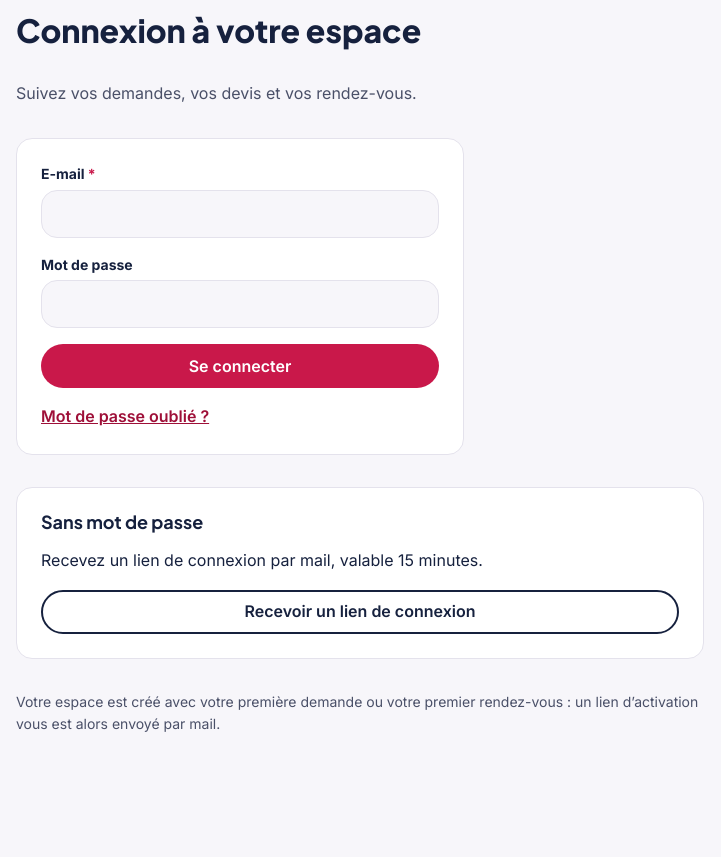
Scenario: Connexion › envoie un lien de connexion par mail, avec la même réponse pour toute adresse
Click the button "Recevoir un lien de connexion". click: (360, 612)
box: [41,590,679,634]
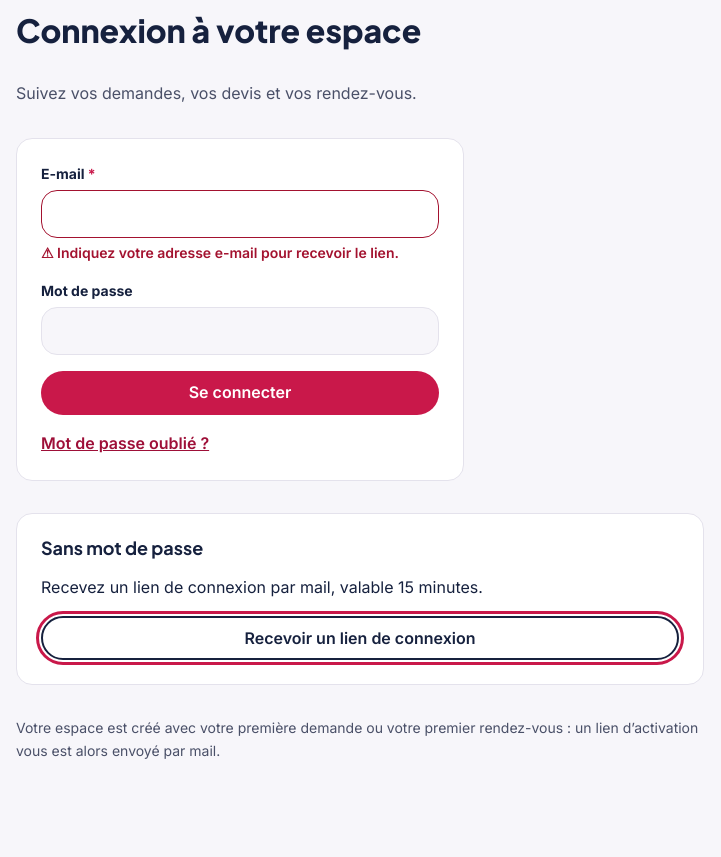
Check: the text "Indiquez votre adresse e-mail pour recevoir le lien." is shown, box [41,242,439,264]
Type " marie@exemple.fr " into the field labelled "E-mail *". click: (240, 214)
box: [41,190,439,238]
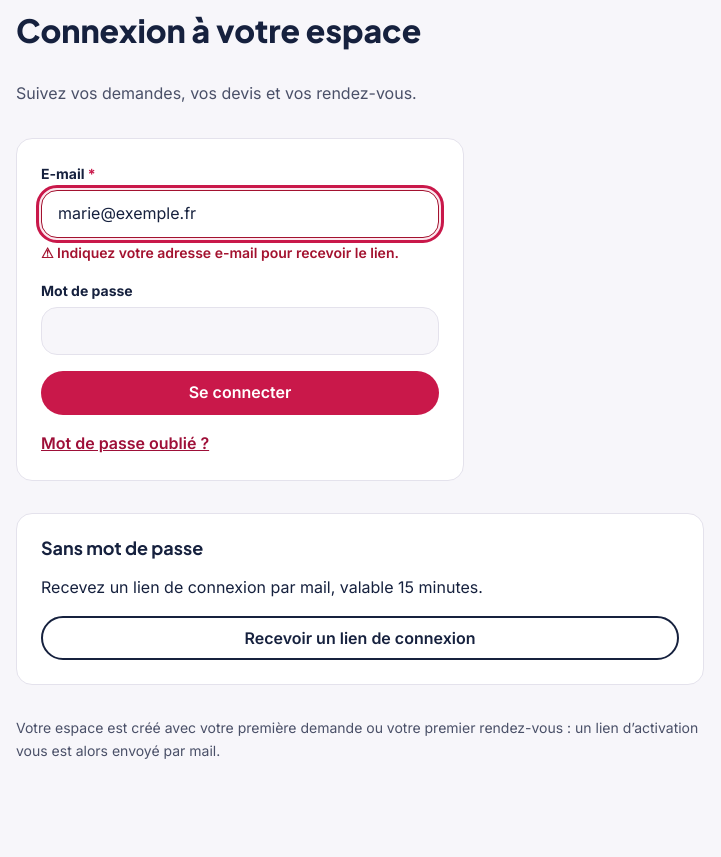
Click the button "Recevoir un lien de connexion". click: (360, 638)
box: [41,616,679,660]
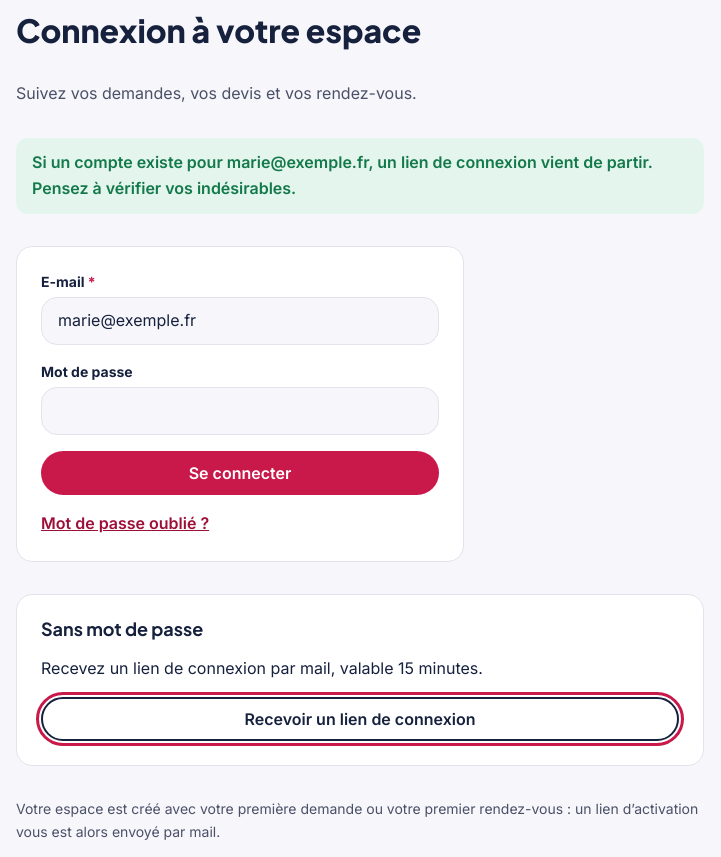
Check: the message reads "Si un compte existe pour marie@exemple.fr, un lien de connexion vient de partir.", box [32,152,653,198]
